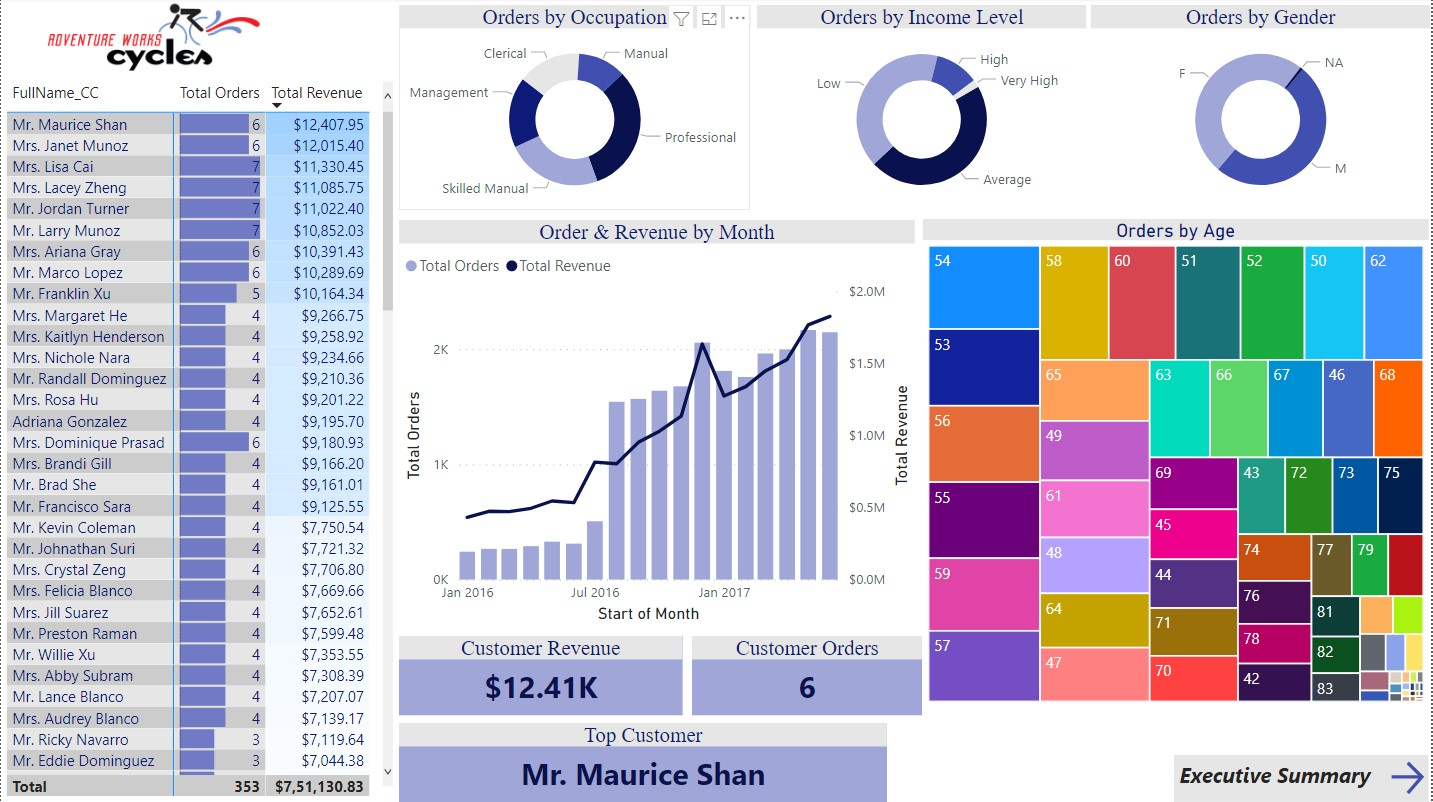

Layout of this report page (visuals, bound fields, positions):
{"tool":"powerbi","page":{"name":"Customer Details ","canvas":[1280,720],"ordinal":2},"visuals":[{"type":"pivotTable","fields":{"Values":["AW_Sales.Total Orders","AW_Sales.Total Revenue"],"Rows":["AW_Customer_Lookup.FullName_CC"]},"box":[0,70,356.4,650],"z":0},{"type":"donutChart","title":"Orders by Gender","fields":{"Y":["AW_Sales.Total Orders"],"Category":["AW_Customer_Lookup.Gender"]},"box":[976.4,6.4,303.6,183.6],"z":1000},{"type":"donutChart","title":"Orders by Occupation","fields":{"Y":["AW_Sales.Total Orders"],"Category":["AW_Customer_Lookup.Occupation"]},"box":[356.4,6.4,314.5,183.6],"z":2000},{"type":"donutChart","title":"Orders by Income Level","fields":{"Y":["AW_Sales.Total Orders"],"Category":["AW_Customer_Lookup.IncomeLevel"]},"box":[677.3,6.4,295.5,183.6],"z":3000},{"type":"lineClusteredColumnComboChart","title":"Order & Revenue by Month","fields":{"Category":["AW_Calendar.Start of Month"],"Y":["AW_Sales.Total Orders"],"Y2":["AW_Sales.Total Revenue"]},"box":[356.4,199.1,461.8,365.5],"z":4000},{"type":"treemap","title":"Orders by Age","fields":{"Values":["AW_Sales.Total Orders"],"Group":["AW_Customer_Lookup.Current_Age"]},"box":[825.5,198.2,452.7,437.3],"z":5000},{"type":"card","title":"Top Customer","fields":{"Values":["Min(AW_Customer_Lookup.FullName_CC)"]},"box":[356.4,649.1,437.3,70.9],"z":6000},{"type":"card","title":"Customer Orders","fields":{"Values":["AW_Sales.Total Orders"]},"box":[619.1,570.9,206.4,70.9],"z":7000},{"type":"card","title":"Customer Revenue","fields":{"Values":["AW_Sales.Total Revenue"]},"box":[356.4,570.9,253.6,70.9],"z":8000},{"type":"textbox","box":[1050,678.2,189.1,41.8],"z":9000},{"type":"actionButton","box":[1239.1,678.2,39.1,41.8],"z":10000},{"type":"image","box":[0,0,275.5,70],"z":10001}]}

Visuals, with their boxes in screenshot pixels (x1, y1, x2, y2), scaled from the page's 1280x720 canvas onto the 1433x802 screenshot:
pivotTable - AW_Sales.Total Orders x AW_Sales.Total Revenue: <region>0, 78, 399, 801</region>
"Orders by Gender" donutChart: <region>1093, 7, 1432, 212</region>
"Orders by Occupation" donutChart: <region>399, 7, 751, 212</region>
"Orders by Income Level" donutChart: <region>758, 7, 1089, 212</region>
"Order & Revenue by Month" lineClusteredColumnComboChart: <region>399, 222, 916, 629</region>
"Orders by Age" treemap: <region>924, 221, 1431, 708</region>
"Top Customer" card: <region>399, 723, 889, 801</region>
"Customer Orders" card: <region>693, 636, 924, 715</region>
"Customer Revenue" card: <region>399, 636, 683, 715</region>
textbox: <region>1176, 755, 1387, 801</region>
actionButton: <region>1387, 755, 1431, 801</region>
image: <region>0, 0, 308, 78</region>
